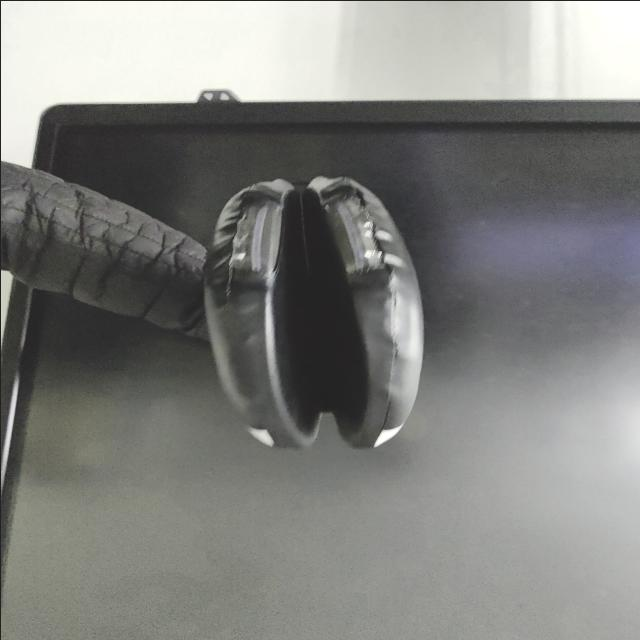paddle: (205, 171, 426, 451)
